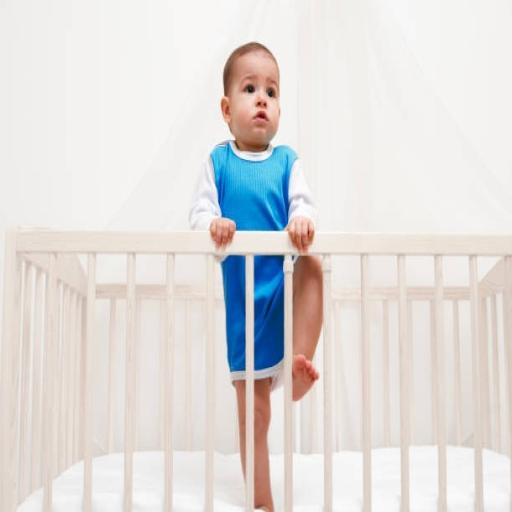baby: (189, 43, 316, 253)
crib: (224, 233, 511, 511)
